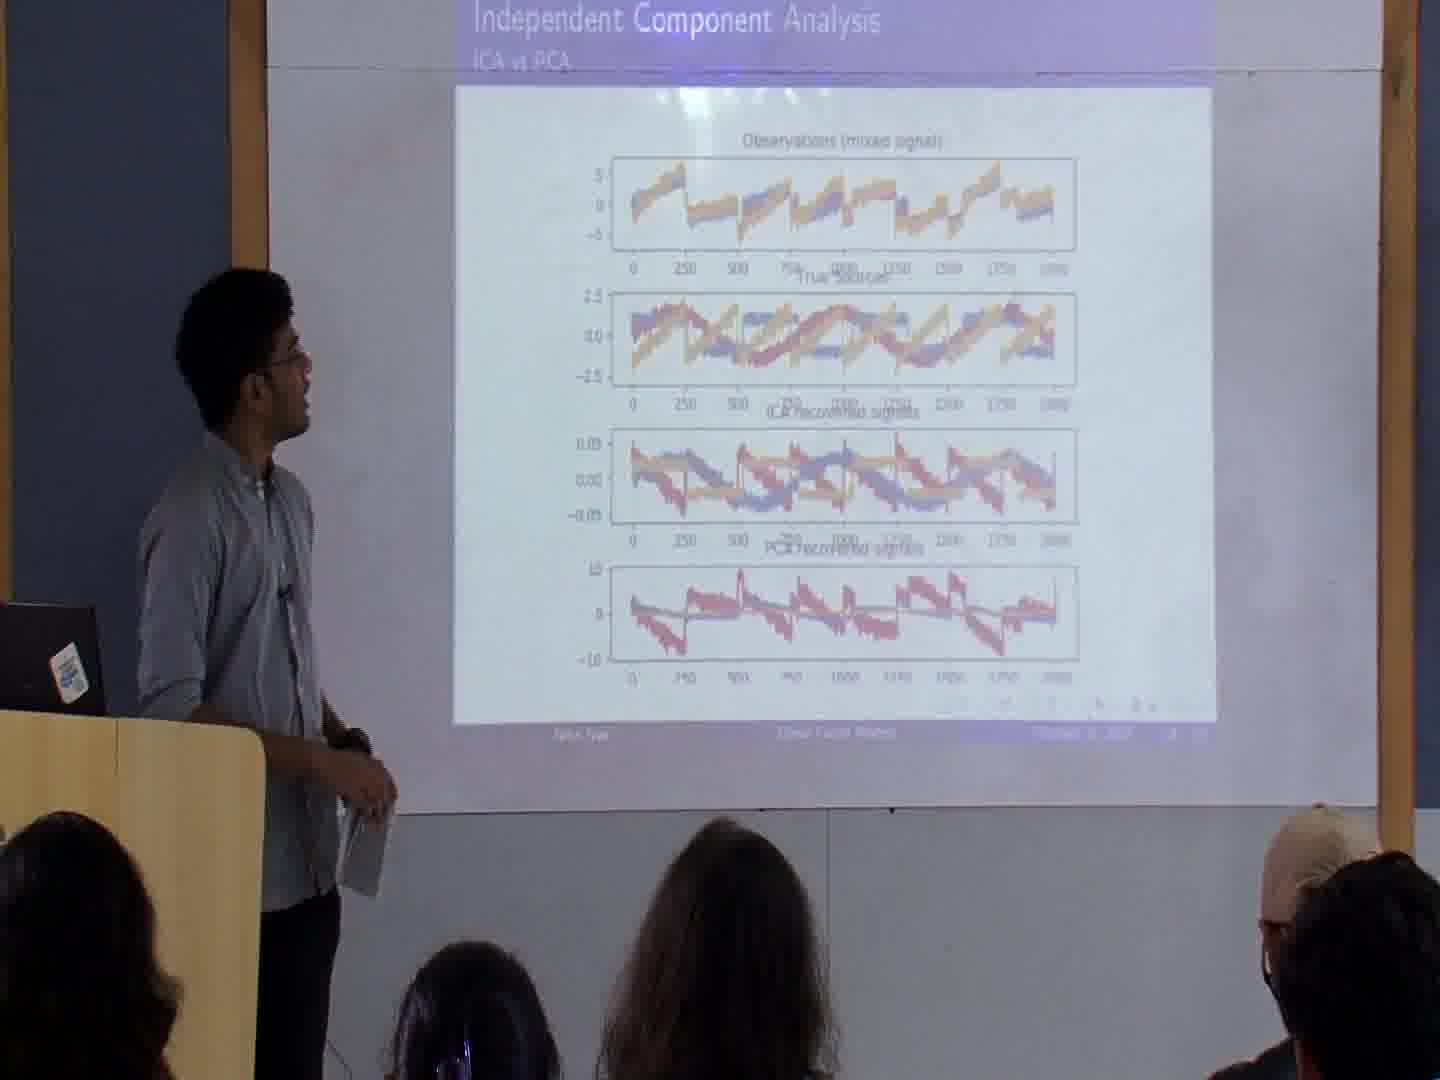fig: (615, 158, 1079, 252), (615, 429, 1075, 523)
